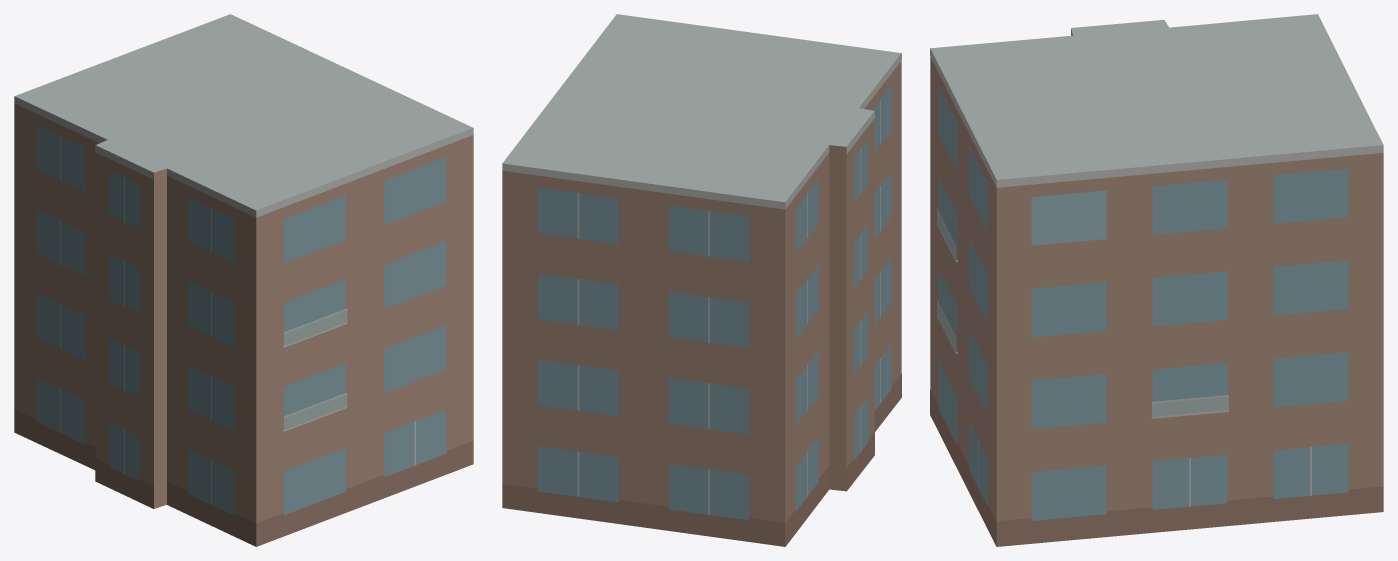
The model's file is survey-upis-33016028.glb.
3 renders of one model, left to right at view 1: azimuth 30°, elevation 25°; view 2: azimuth 150°, elevation 25°; view 3: azimuth 270°, elevation 25°, orthographic. The views are drawn at different scales.
Parts seen in each view (by area): view 1: survey-upis-33016028.tmp; view 2: survey-upis-33016028.tmp; view 3: survey-upis-33016028.tmp.
Boxes of the visible parts, x1,y1,x2,y2 form: survey-upis-33016028.tmp: [14, 14, 473, 546]; survey-upis-33016028.tmp: [502, 14, 901, 546]; survey-upis-33016028.tmp: [930, 14, 1383, 546].
Size of the model in its own units: 11.27 by 11.6 by 13.01.
